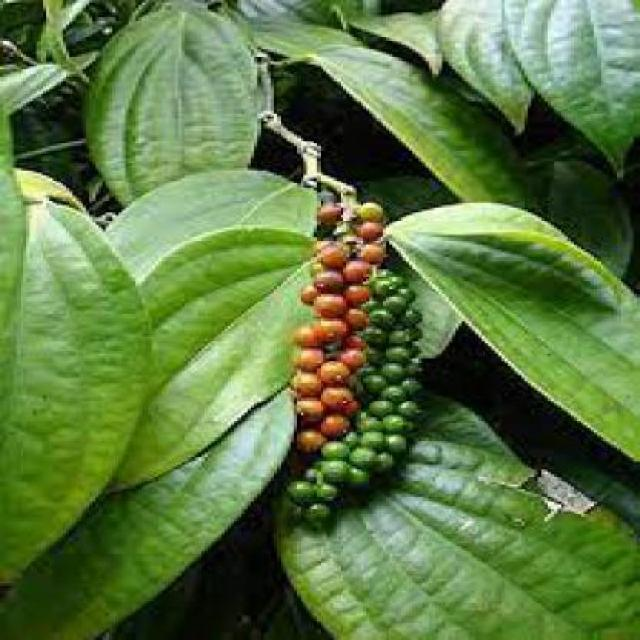RIPE: (281, 188, 374, 428)
UNRIPE: (360, 245, 426, 543)
